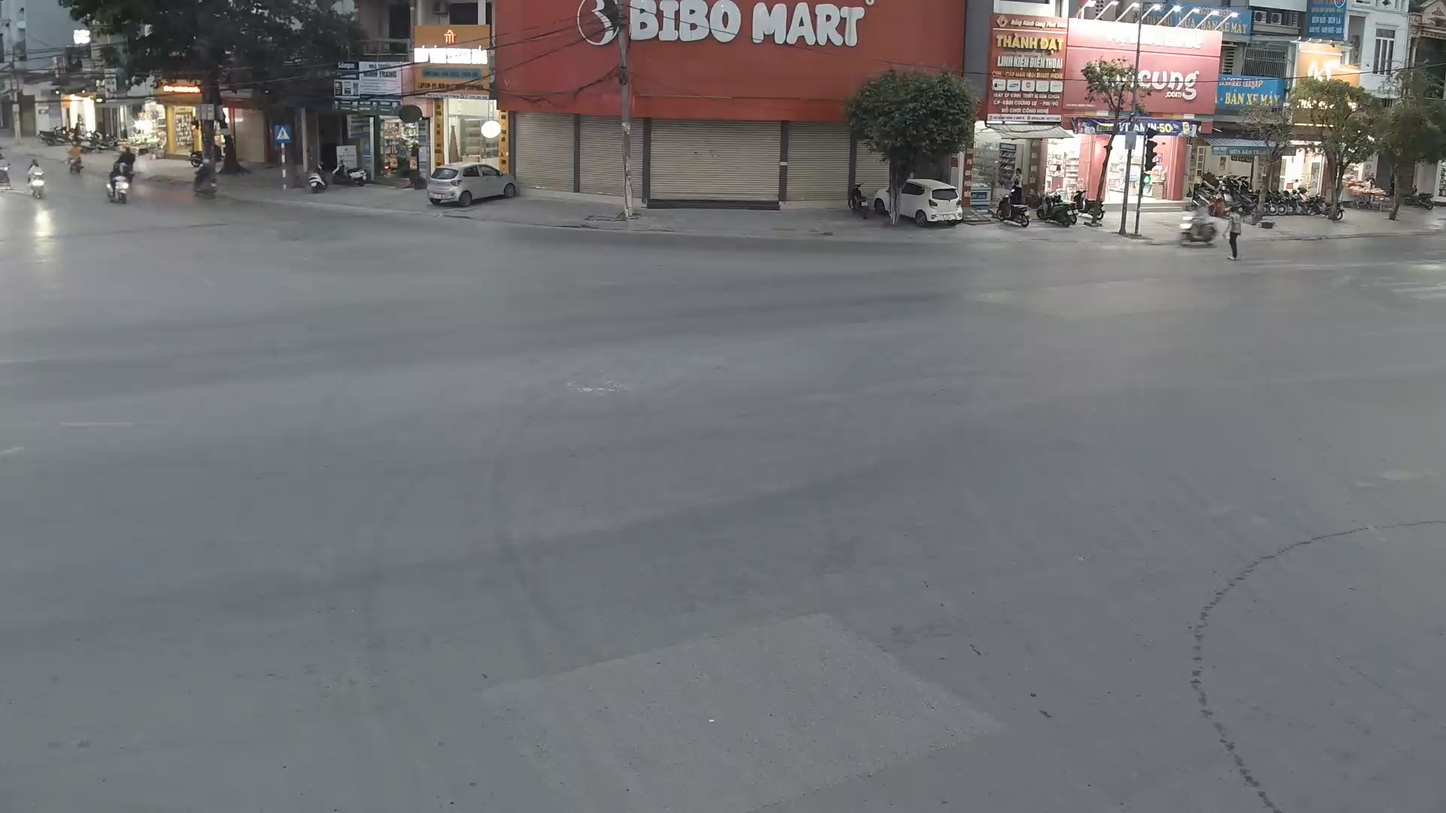car: (426, 161, 520, 211)
motorbike: (104, 149, 136, 205), (190, 148, 221, 200), (24, 156, 49, 200)
